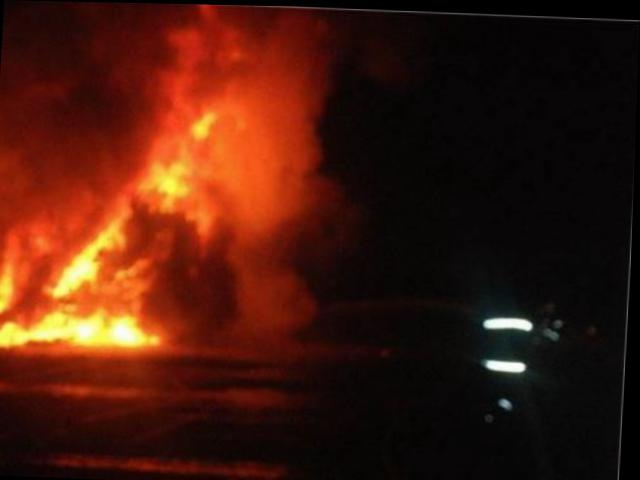fire: (0, 105, 231, 356)
